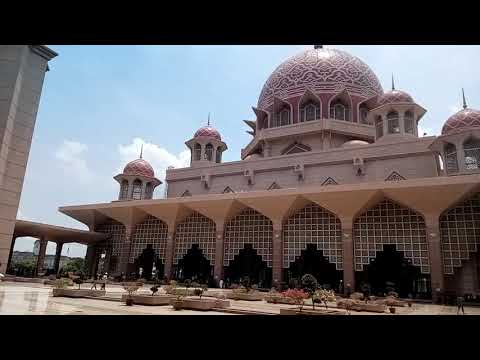Mosque: (85, 45, 476, 276)
